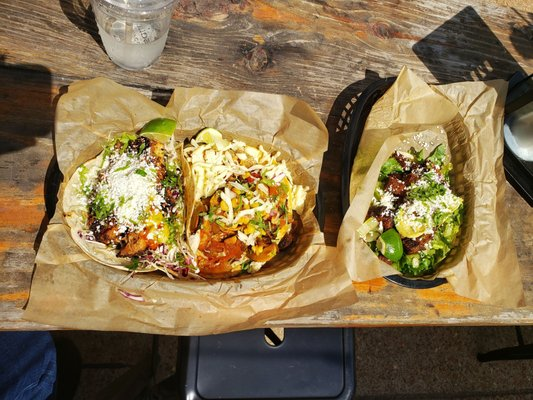pizza: (91, 0, 181, 71)
soup: (63, 125, 319, 280)
